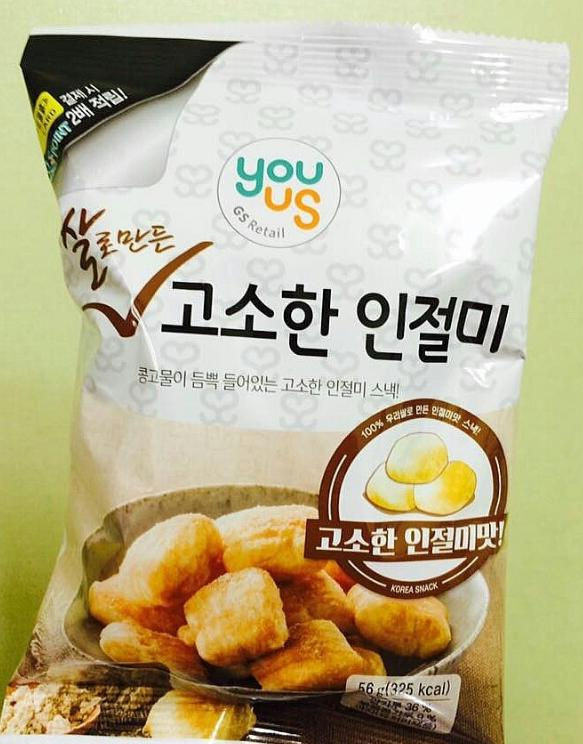snack: (0, 24, 572, 744)
